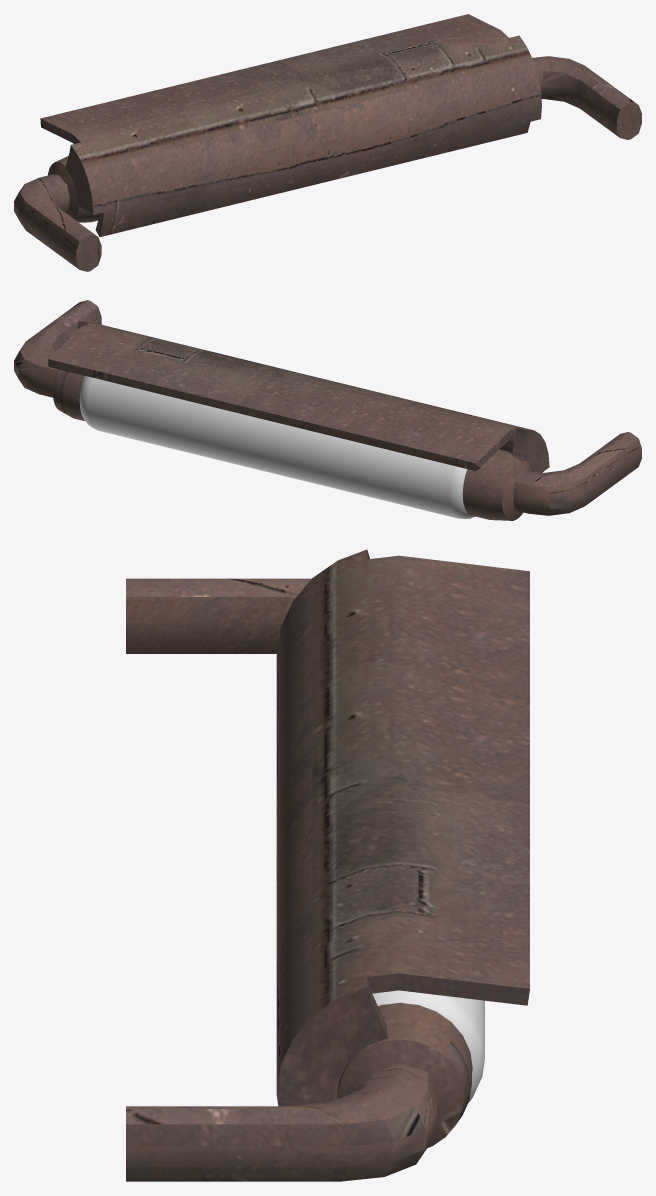
Rendered from SM_PrisonLight00.fbx.
3 renders of one model, top to bottom at view 1: azimuth 30°, elevation 25°; view 2: azimuth 150°, elevation 25°; view 3: azimuth 270°, elevation 25°, orthographic. The views are drawn at different scales.
Visible parts, largest first — view 1: SM_PrisonLight00; view 2: SM_PrisonLight00, SM_PrisonLightbulb; view 3: SM_PrisonLight00, SM_PrisonLightbulb.
Boxes of the visible parts, x1,y1,x2,y2 form: SM_PrisonLight00: [14, 14, 641, 271]; SM_PrisonLight00: [14, 300, 641, 520]; SM_PrisonLightbulb: [79, 375, 474, 518]; SM_PrisonLight00: [126, 549, 529, 1181]; SM_PrisonLightbulb: [372, 990, 484, 1102].
Bounding box in the file's own units: 343 × 54.13 × 106.
